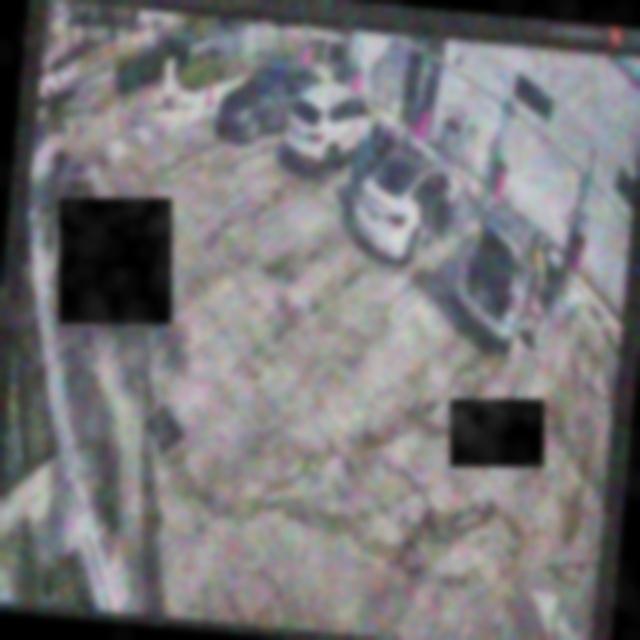Car: (453, 197, 569, 354), (351, 130, 468, 274), (276, 84, 388, 192), (212, 56, 321, 155)
